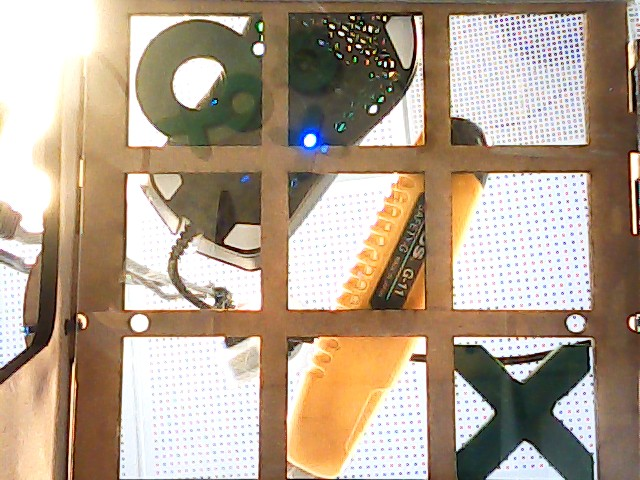O: (138, 17, 257, 149)
X: (454, 342, 599, 480)
